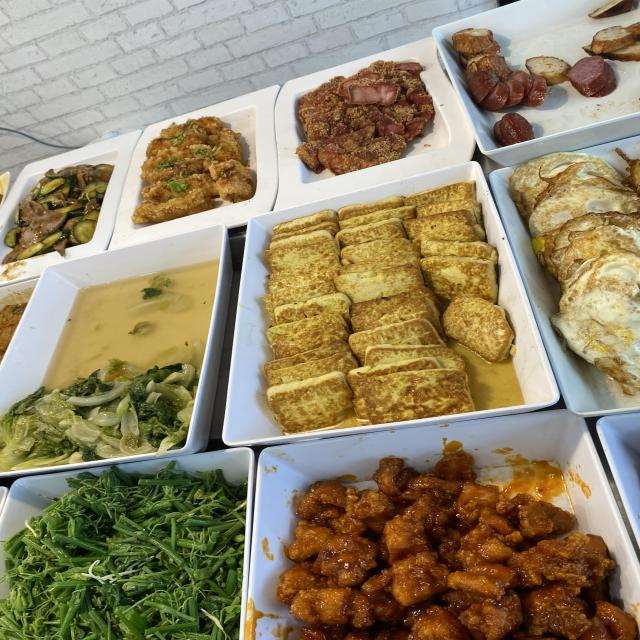Fushan-lettuce: (33, 378, 180, 443)
Pan Fried Tofu: (284, 235, 491, 394)
